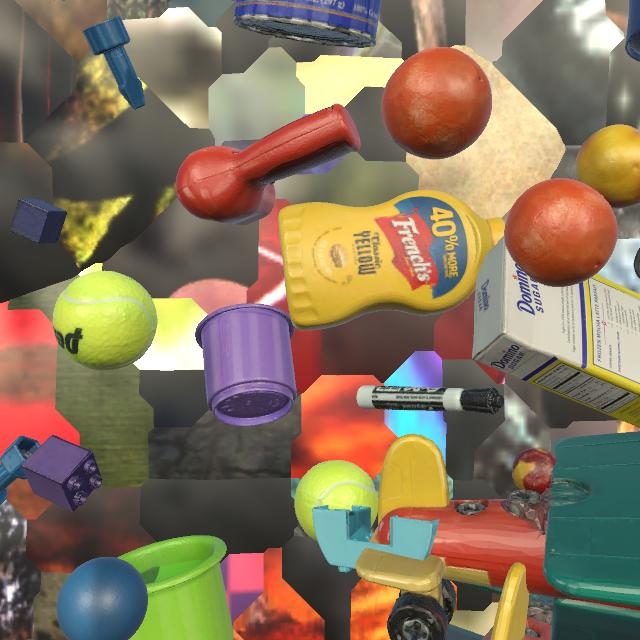ycb_002_master_chef_can: (233, 0, 381, 48)
ycb_004_sugar_box: (472, 236, 640, 428)
ycb_006_mustard_bottle: (278, 190, 505, 331)
ycb_010_potted_meat_can: (63, 0, 64, 1)
ycb_015_peach: (575, 124, 640, 209)
ycb_017_orange: (381, 47, 492, 160), (504, 178, 618, 287)
